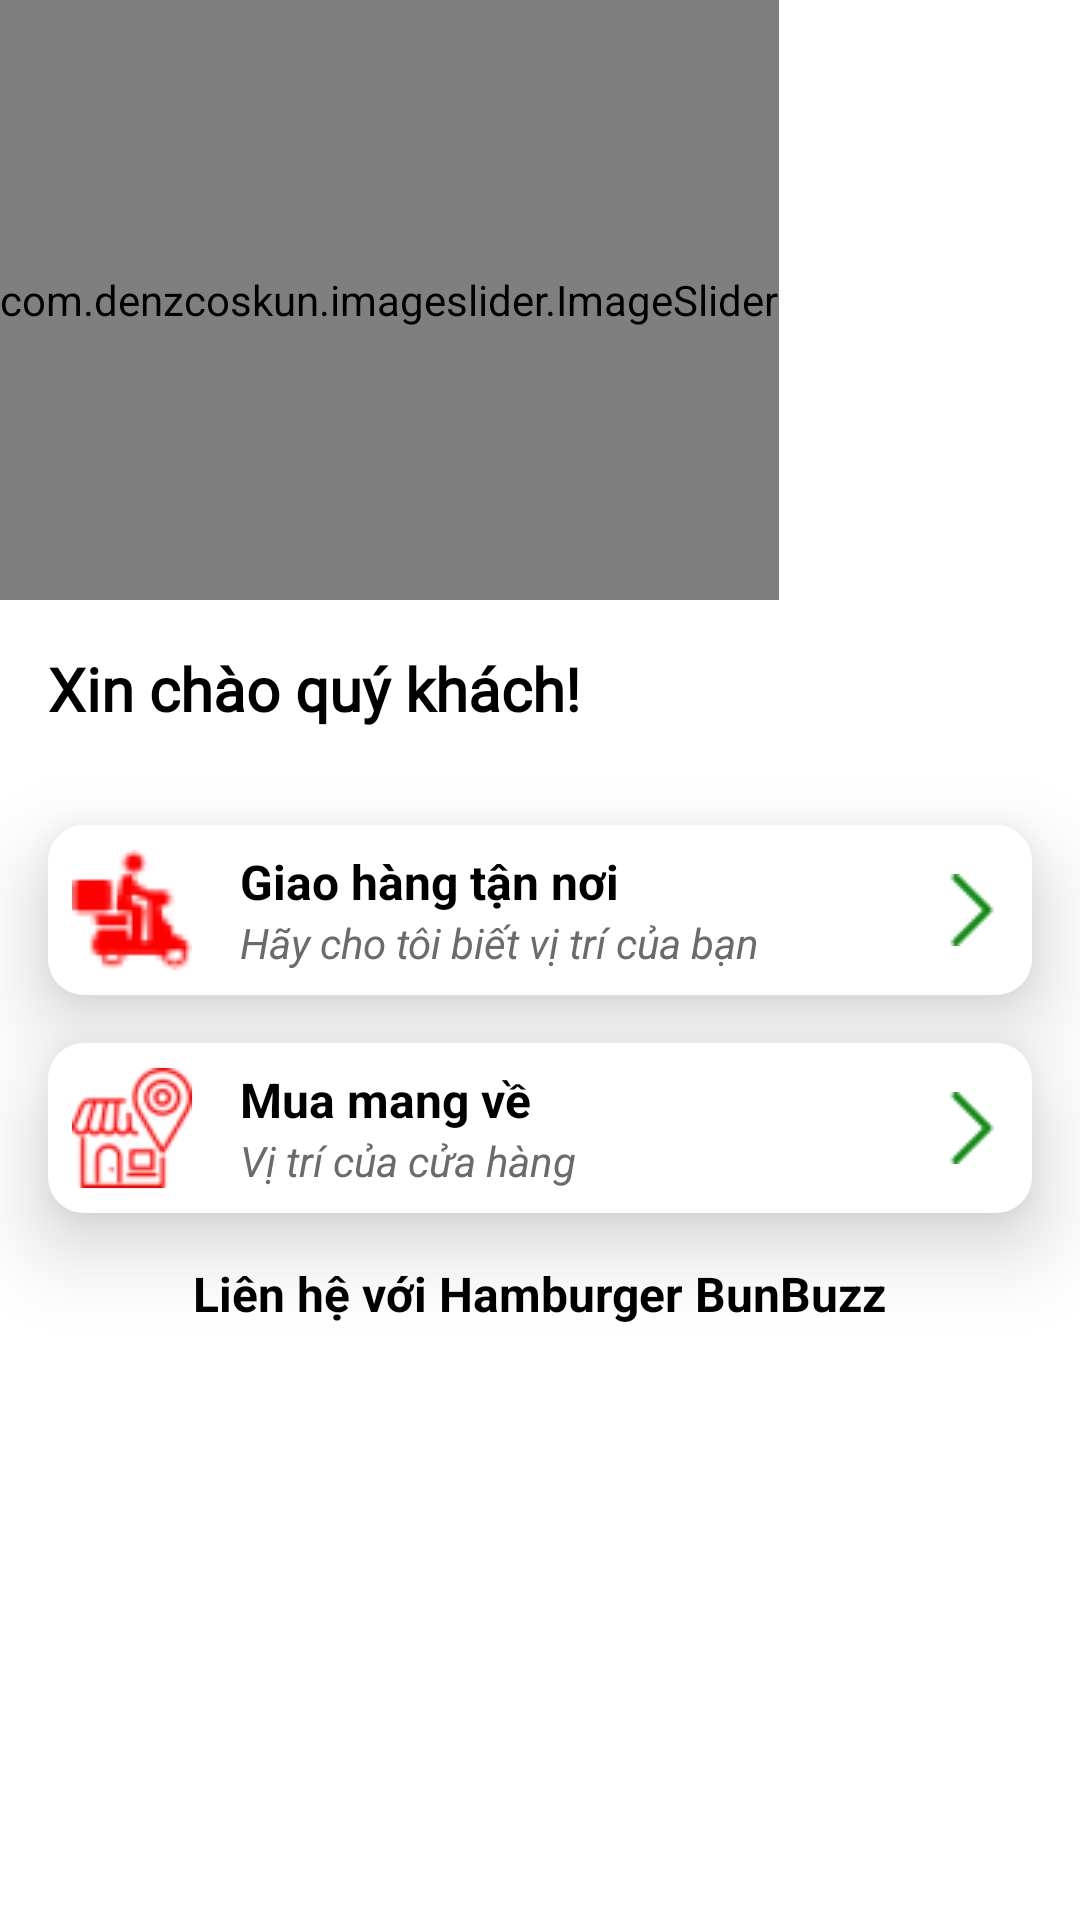

Named icons in this screenshot (1080*1920) and their centers, (x,y):
location: (132,1128)
motorbike: (132,910)
